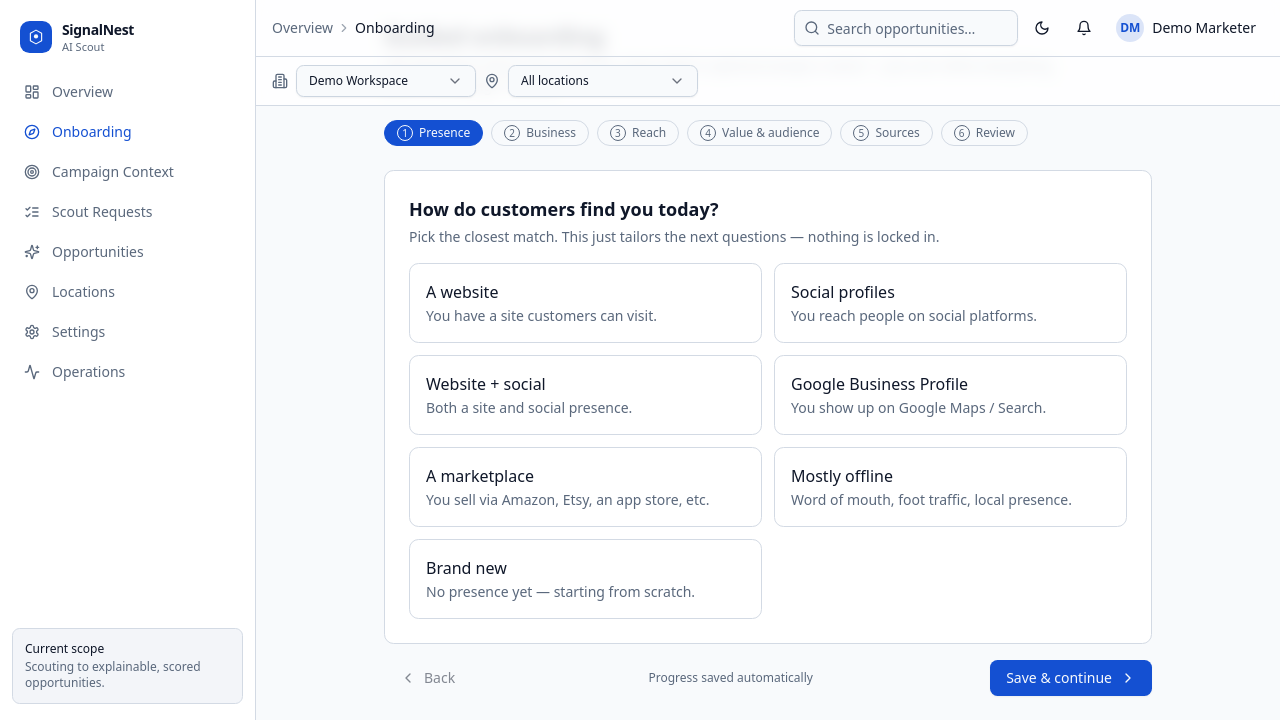
Test: onboarding wizard › walks through steps and requires a business name before continuing
The image size is (1280, 720).
(page scrolled)
Expected: the text "How do customers find you today?" is shown, [409,195,719,223]
Expected: the button "Brand new No presence yet — starting from scratch." is shown, [409,539,762,619]
Click the button "Save & continue" at {"x": 1071, "y": 678}, box [990,660,1152,696]
(page scrolled)
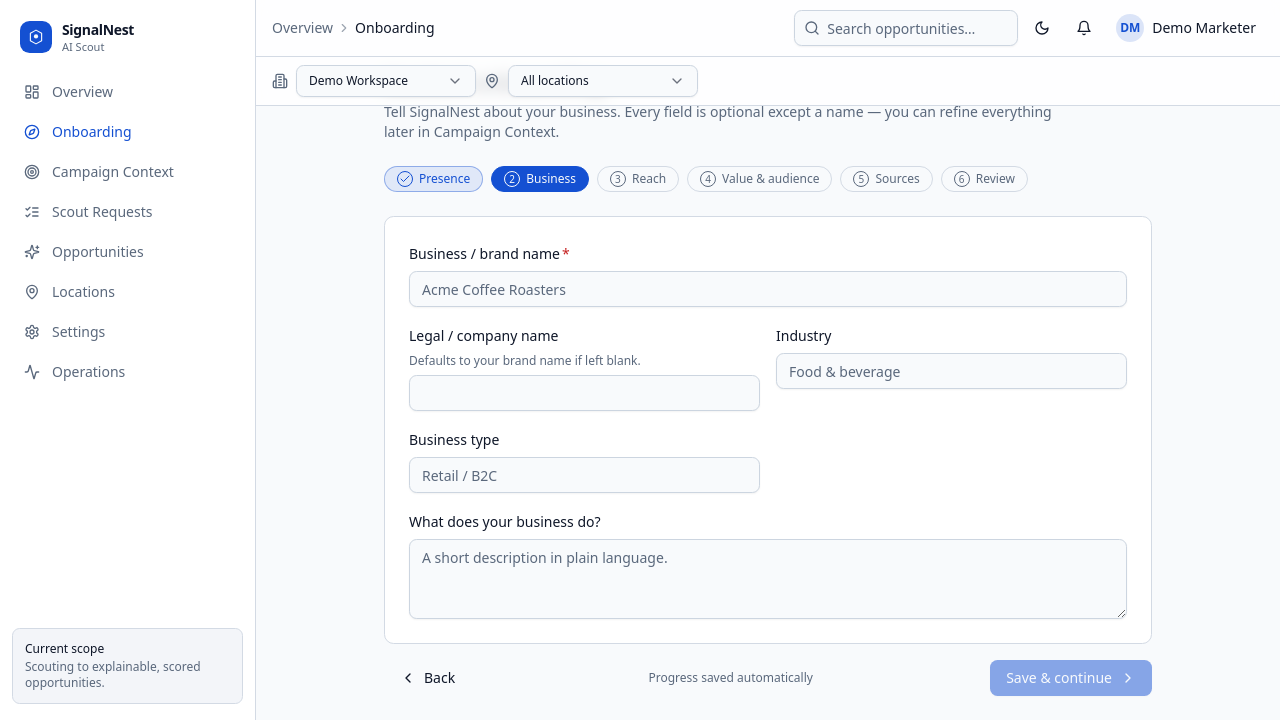
Now the button "Save & continue" is disabled, box [990,660,1152,696]
Type "Acme Coffee" into the field labelled "Business / brand name*" at {"x": 768, "y": 289}, box [409,271,1127,307]
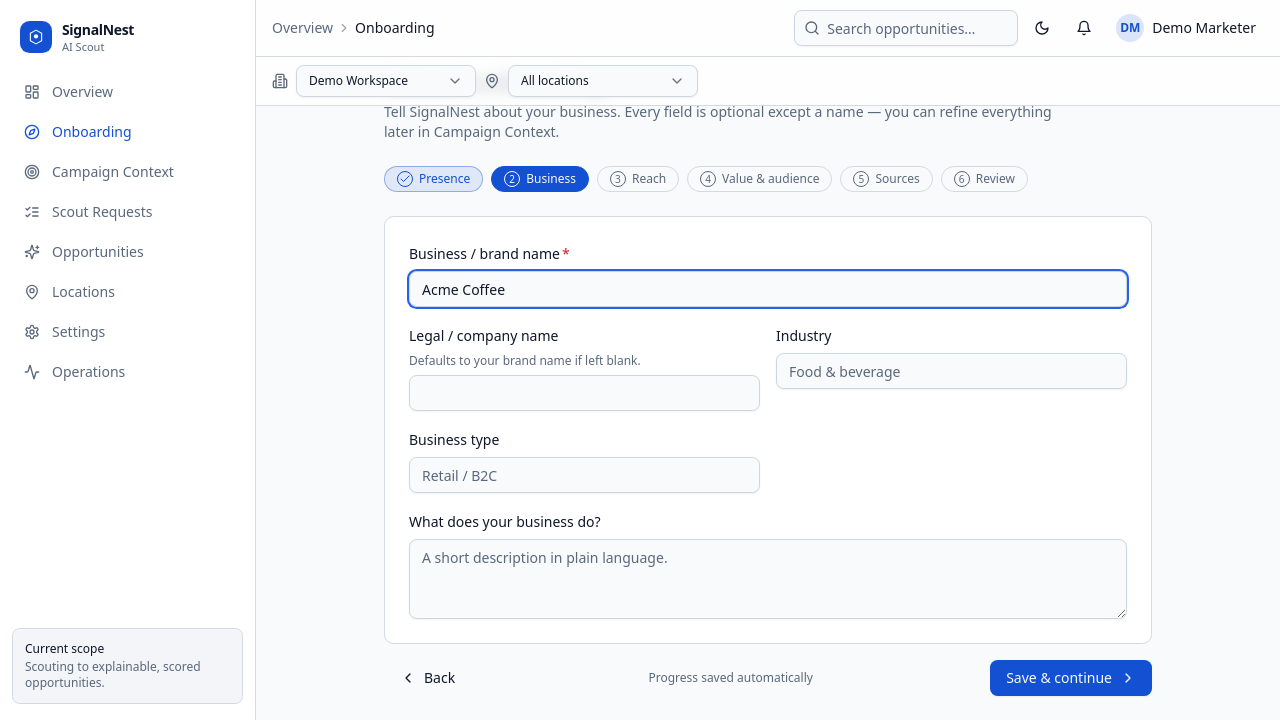
Now the button "Save & continue" is enabled, box [990,660,1152,696]
